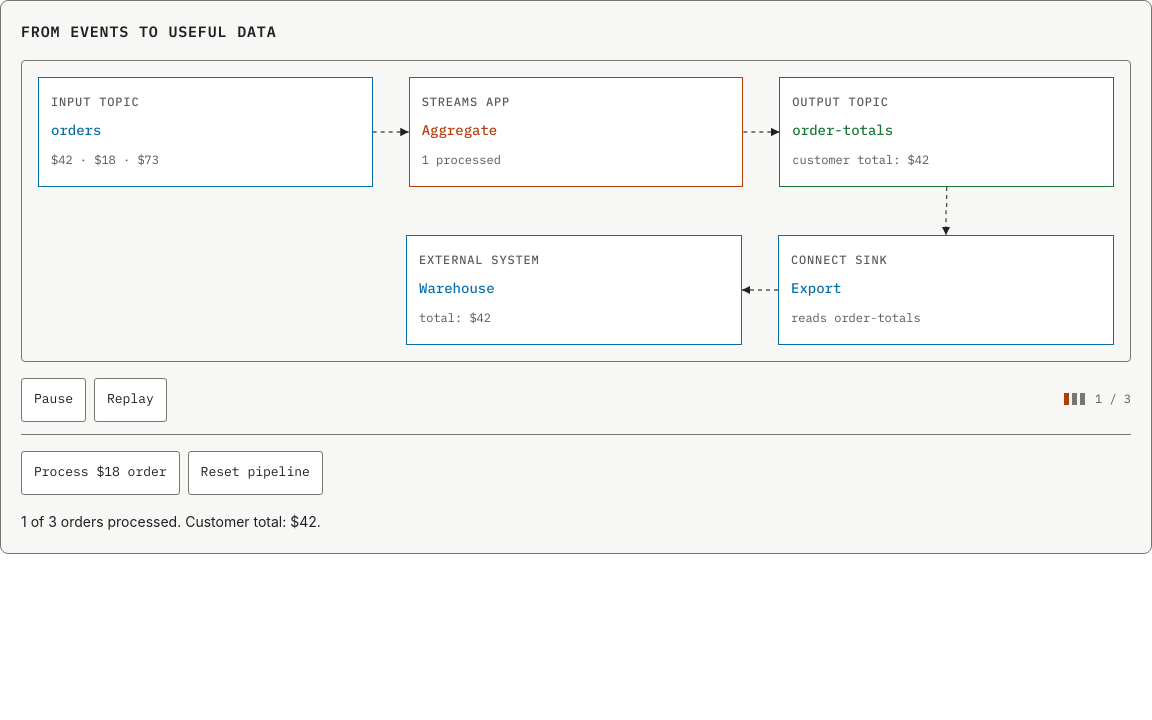
Test case: Kafka 2D autoplay › stops automatic progress when the reader takes over
Step 1. Click the button "Reset pipeline" → (255, 472), box [188, 450, 323, 494]
Wait 26000 ms
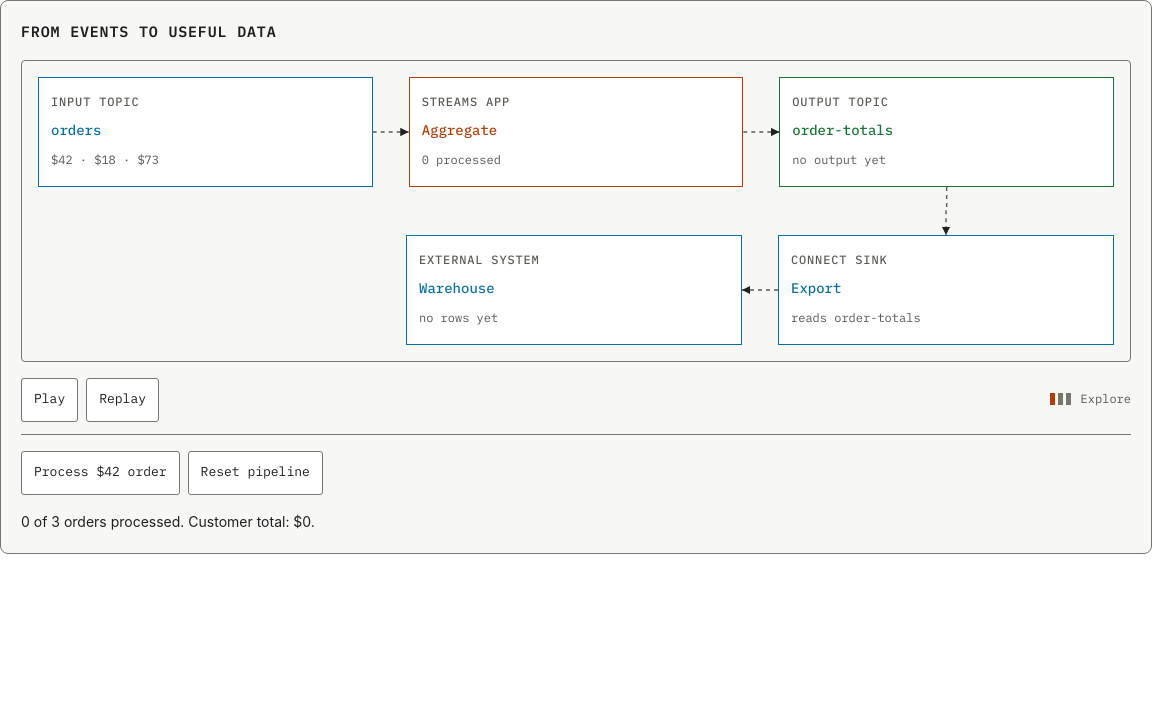
Expected: the text "no output yet" is shown, [792, 152, 886, 168]
Expected: the text "no rows yet" is shown, [419, 310, 498, 326]
